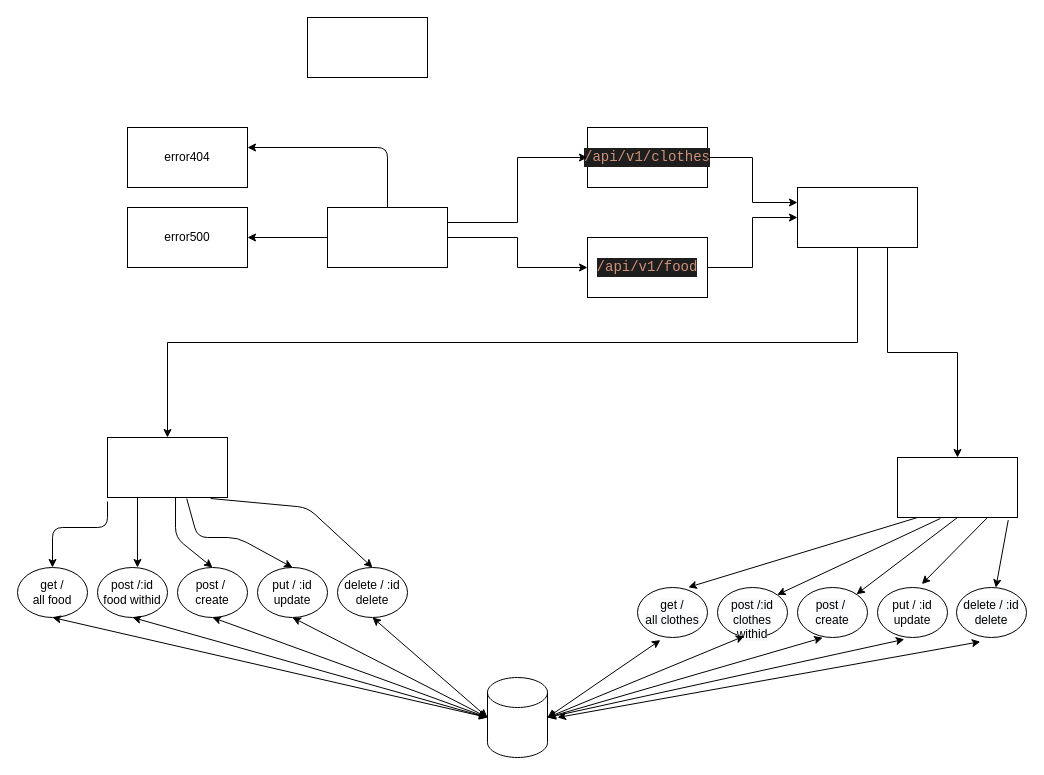
This 1044x775 diagram has some shape labels left out. The shapes that lost their labels are listed below. From the top down, each one's centre as x and y in pixels, then its label:
At point (367, 47): "index".
At point (387, 237): "sever".
At point (857, 217): "router".
At point (167, 467): "food.js".
At point (957, 487): "clothes.js".
At point (517, 717): "database".
